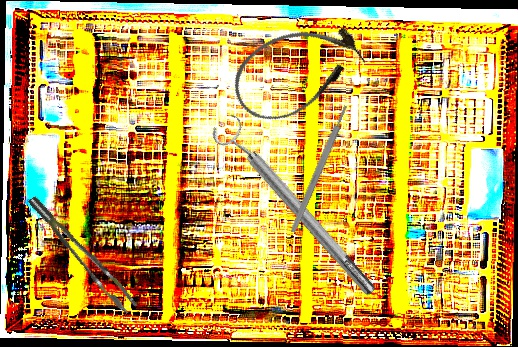Cannula: (220, 7, 374, 135)
Fixation Ring: (207, 109, 385, 306)
Scalpel Handle: (289, 104, 350, 234)
Tissue Forceps: (27, 183, 139, 324)
